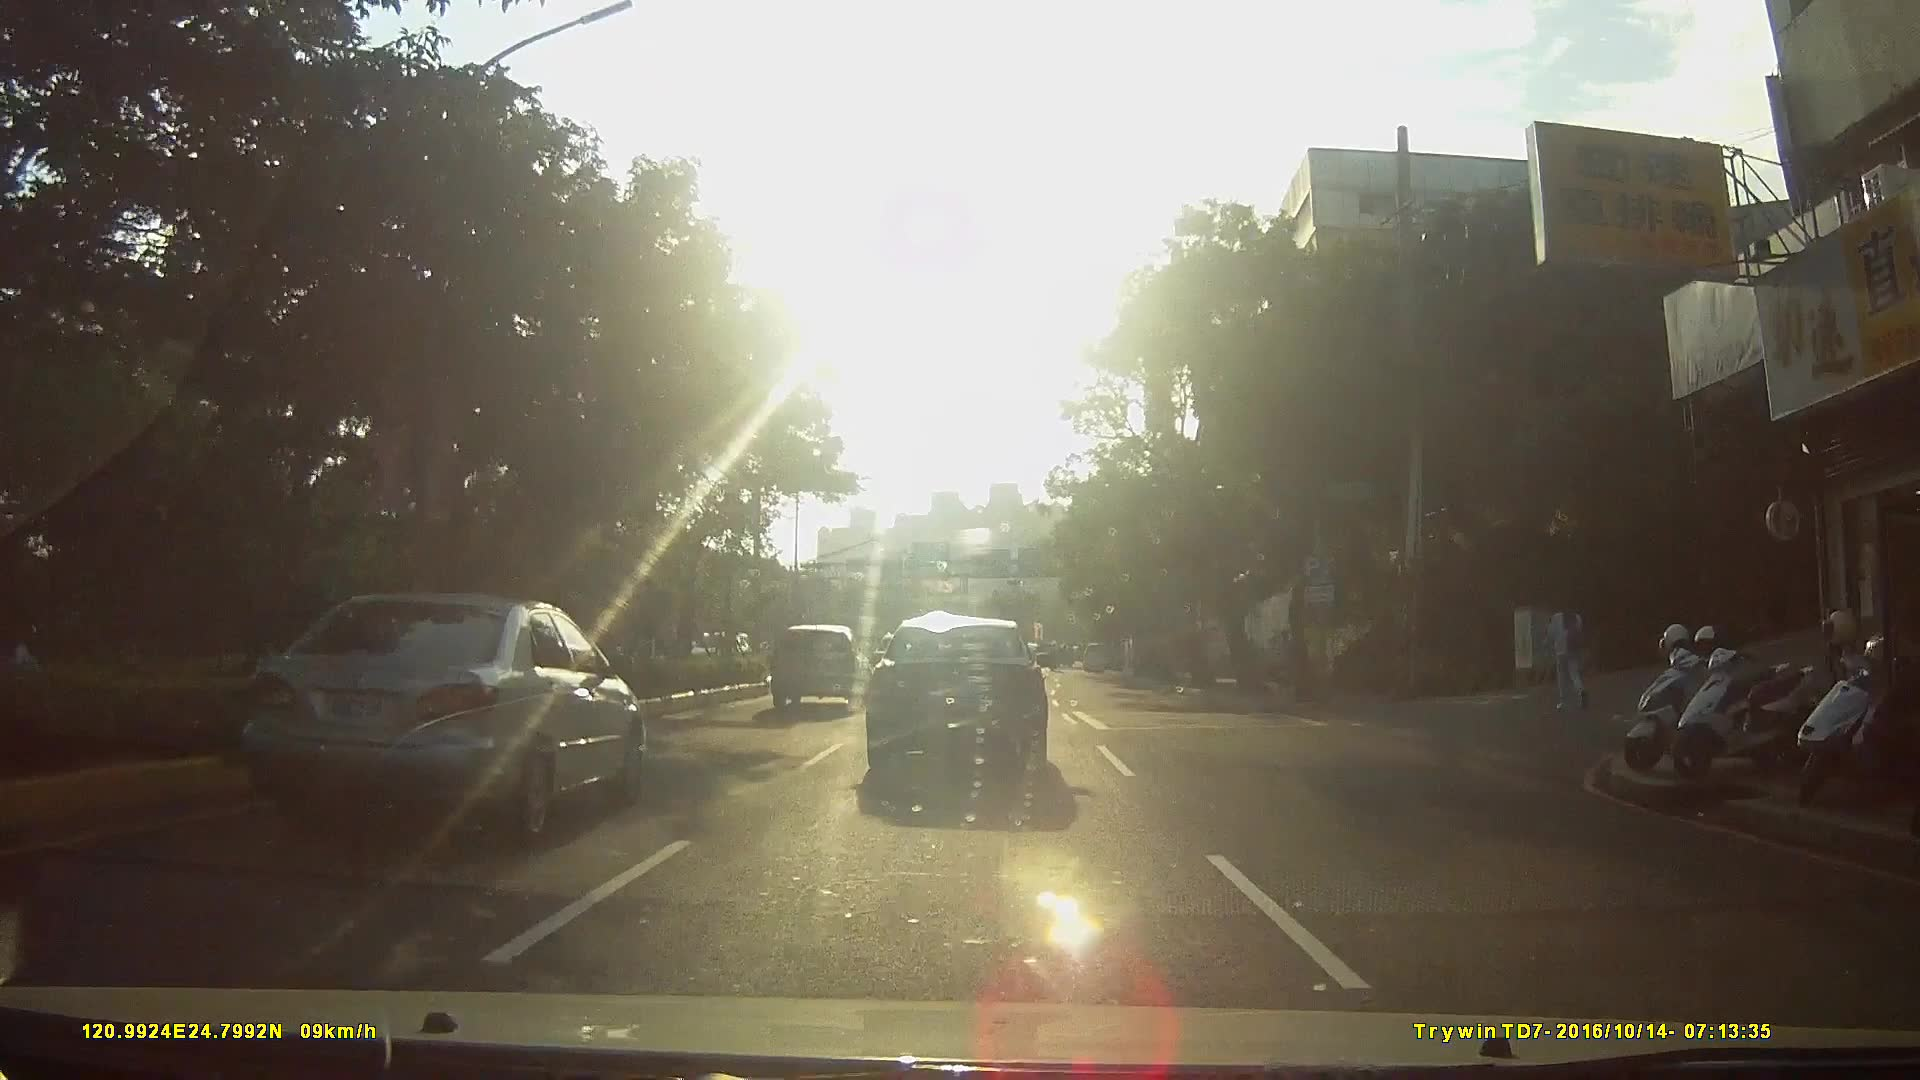pedestrian: (1554, 589, 1603, 705)
vehicle: (226, 588, 651, 844), (869, 613, 1068, 785), (770, 623, 875, 711), (1079, 640, 1112, 673)
